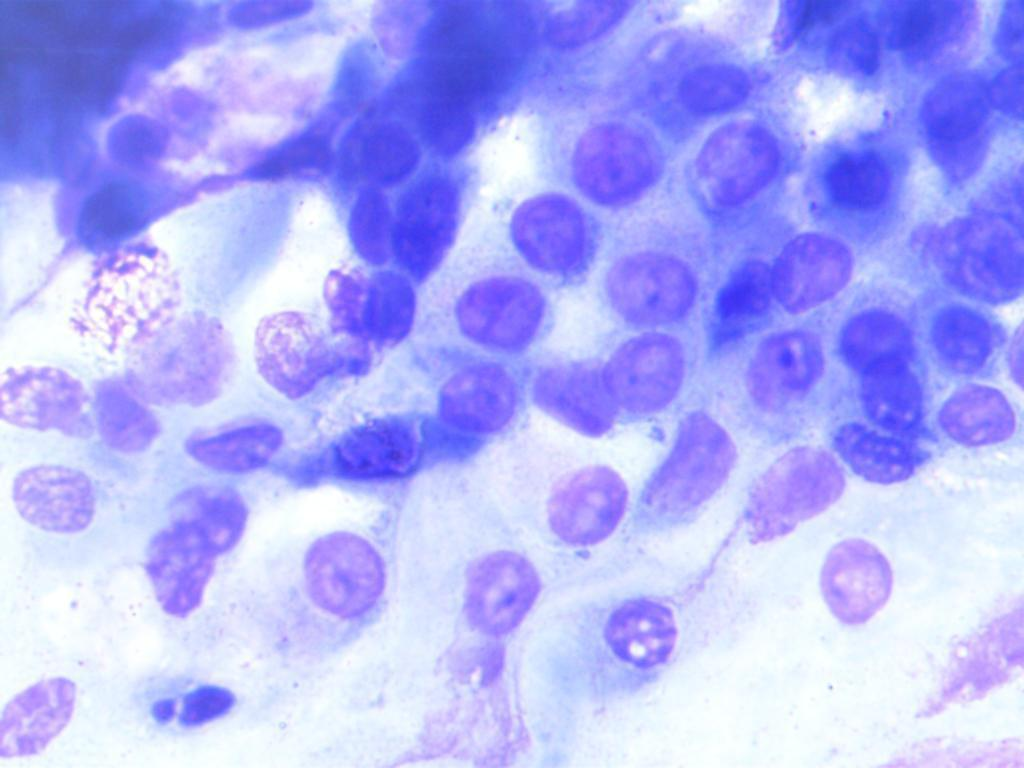artifact: (137, 496, 248, 624), (930, 596, 1024, 743), (134, 296, 245, 410), (79, 238, 184, 356), (255, 306, 380, 398), (0, 353, 102, 459), (641, 419, 733, 525), (0, 456, 108, 543), (78, 369, 166, 470)
epithelial: (380, 150, 474, 299), (727, 440, 864, 542), (758, 3, 889, 100), (53, 162, 201, 246), (294, 520, 397, 636), (926, 198, 1024, 311), (314, 108, 423, 199), (598, 324, 696, 424), (684, 109, 787, 204), (564, 113, 667, 208), (491, 183, 594, 278), (603, 236, 706, 331), (722, 322, 825, 417), (534, 455, 637, 550), (803, 534, 906, 629), (445, 546, 548, 641), (586, 586, 689, 681), (319, 269, 430, 355), (319, 410, 430, 494), (183, 408, 296, 490), (400, 83, 504, 170), (530, 0, 648, 76), (931, 264, 1016, 368), (833, 351, 931, 438), (861, 0, 983, 69), (824, 428, 931, 504), (825, 293, 924, 375), (452, 269, 544, 356), (763, 236, 860, 316), (547, 338, 623, 440), (819, 128, 898, 226), (213, 0, 354, 54), (103, 98, 186, 185), (435, 364, 528, 440), (919, 74, 998, 160), (661, 52, 770, 114), (1, 670, 74, 760), (935, 382, 1024, 454), (315, 194, 397, 272), (978, 44, 1024, 138)
neutrophil: (133, 664, 244, 745)
